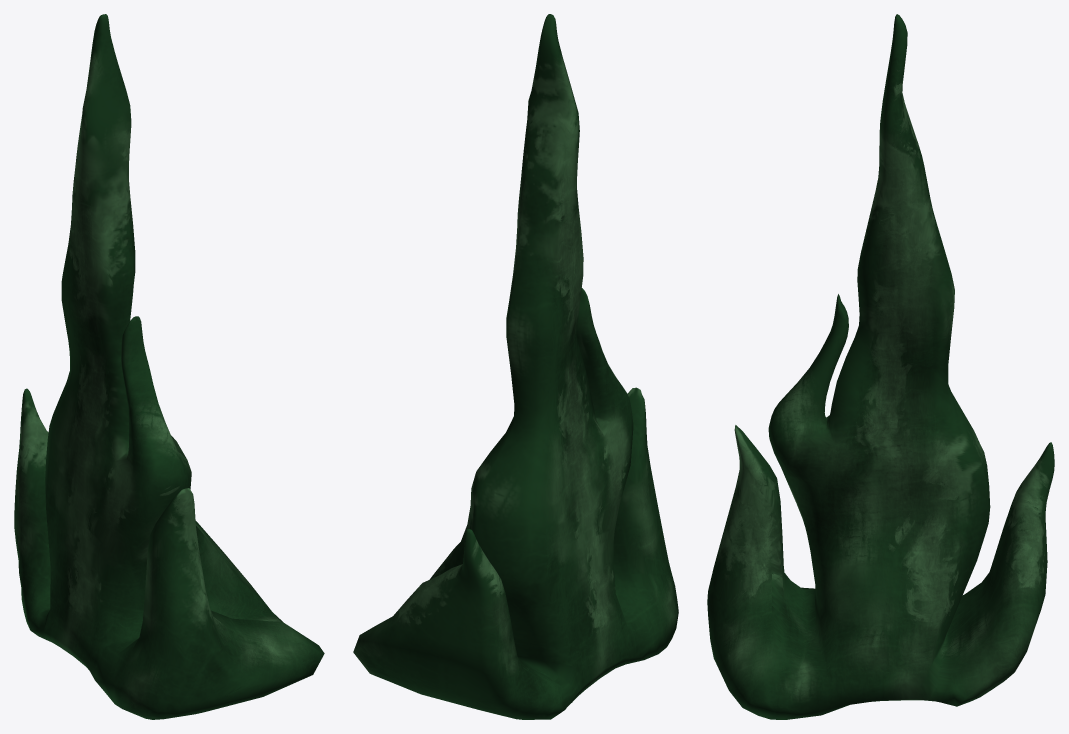
Rendered from ARBOL 2.fbx.
3 views of the same model, side by side, from view 1: azimuth 30°, elevation 25°; view 2: azimuth 150°, elevation 25°; view 3: azimuth 270°, elevation 25° (orthographic). The views are drawn at different scales.
Visible parts, largest first — view 1: Plane.003; view 2: Plane.003; view 3: Plane.003.
Boxes of the visible parts, box(x1,y1,x2,y2) form: Plane.003: box(14, 14, 324, 719); Plane.003: box(353, 14, 678, 719); Plane.003: box(707, 14, 1054, 719).
Bounding box in the file's own units: 25.5 × 79.45 × 38.57.
1 material, 1 textured.
